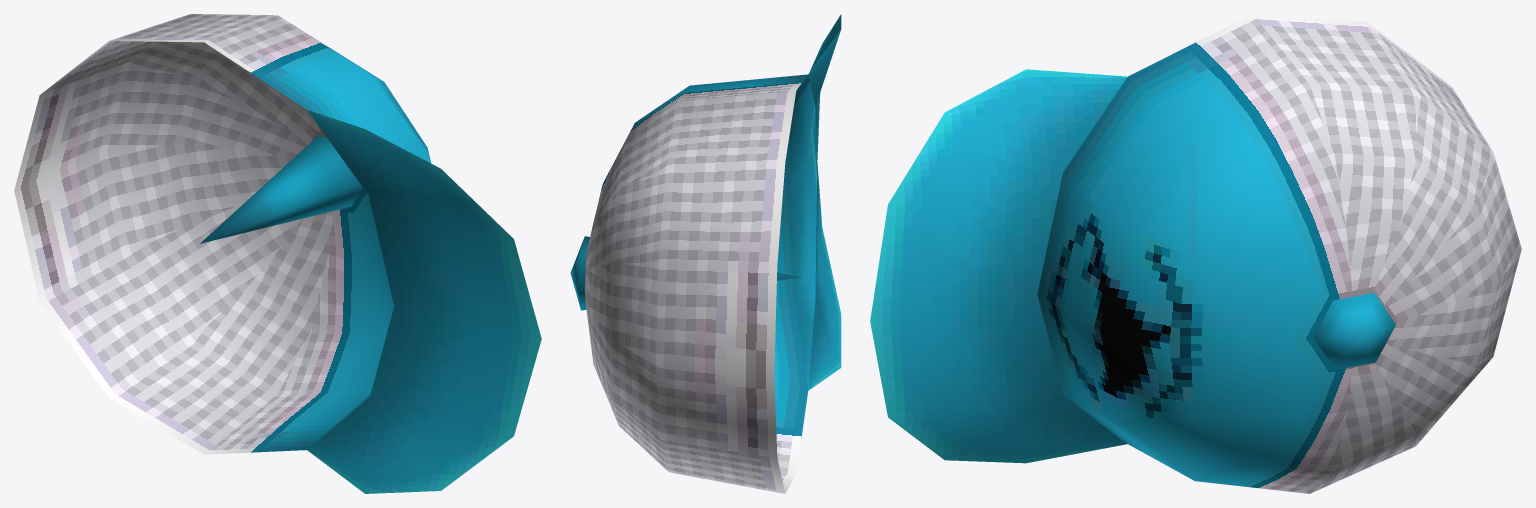
The model's file is cap_cap_ltb.dae.
The picture shows the model from 3 angles, left to right: view 1: azimuth 30°, elevation 25°; view 2: azimuth 150°, elevation 25°; view 3: azimuth 270°, elevation 25°; orthographic projection. The views are drawn at different scales.
Parts seen in each view (by area): view 1: cap_cap_ltb; view 2: cap_cap_ltb; view 3: cap_cap_ltb.
Boxes of the visible parts, bbox=[...] form: cap_cap_ltb: bbox=[14, 14, 541, 493]; cap_cap_ltb: bbox=[570, 14, 841, 493]; cap_cap_ltb: bbox=[870, 14, 1521, 493].
Bounding box in the file's own units: 15.43 × 21.14 × 28.04.
Materials: 1 (1 with a texture image).
